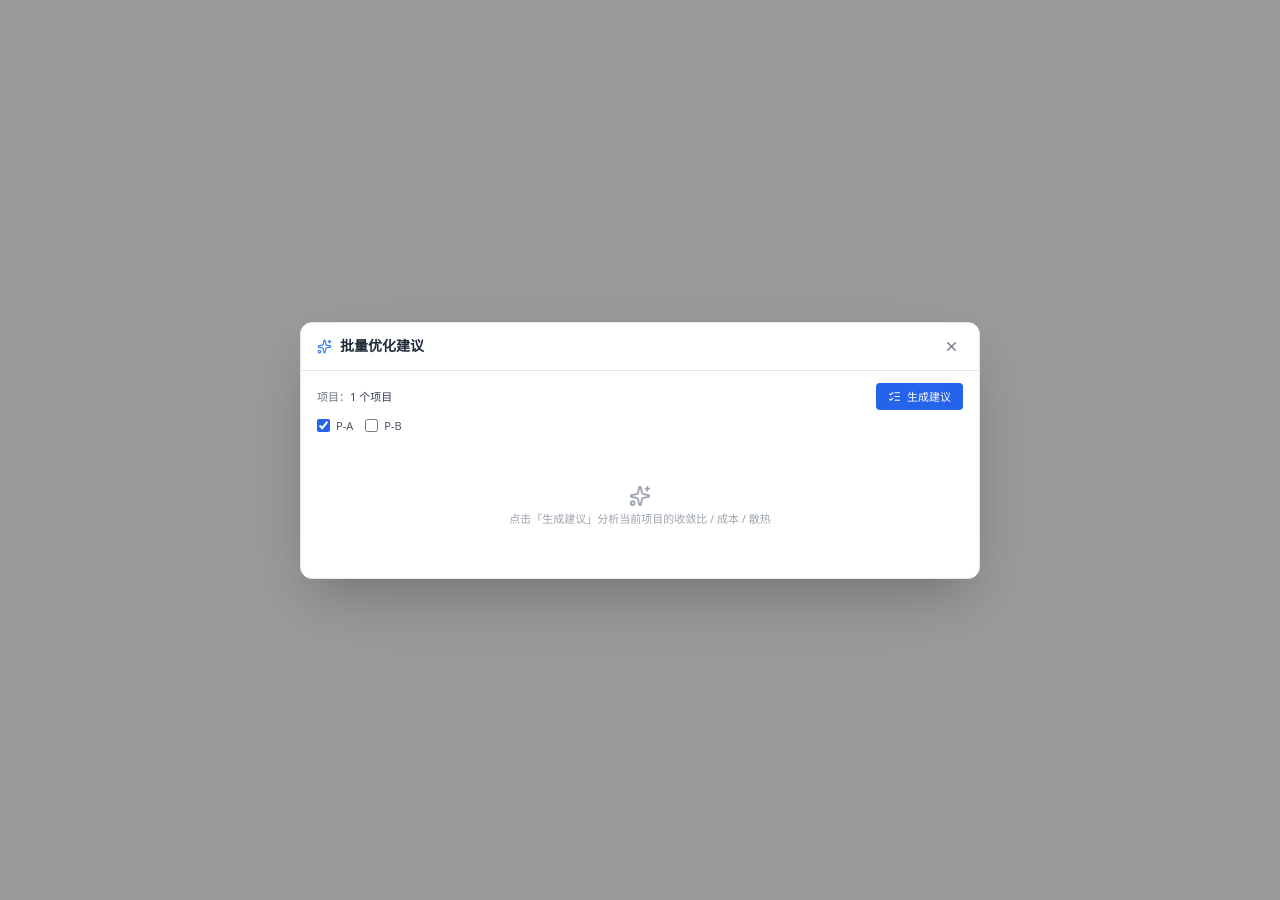
E-2 批量优化（F4-2，多项目复用 BatchOptimizePanel） › 支持多项目选择：按项目逐个生成建议（每个项目一次 suggest）
The image size is (1280, 900).
多选 P-A + P-B
Click the checkbox labelled "P-B" at (372, 425), box [365,418,378,432]
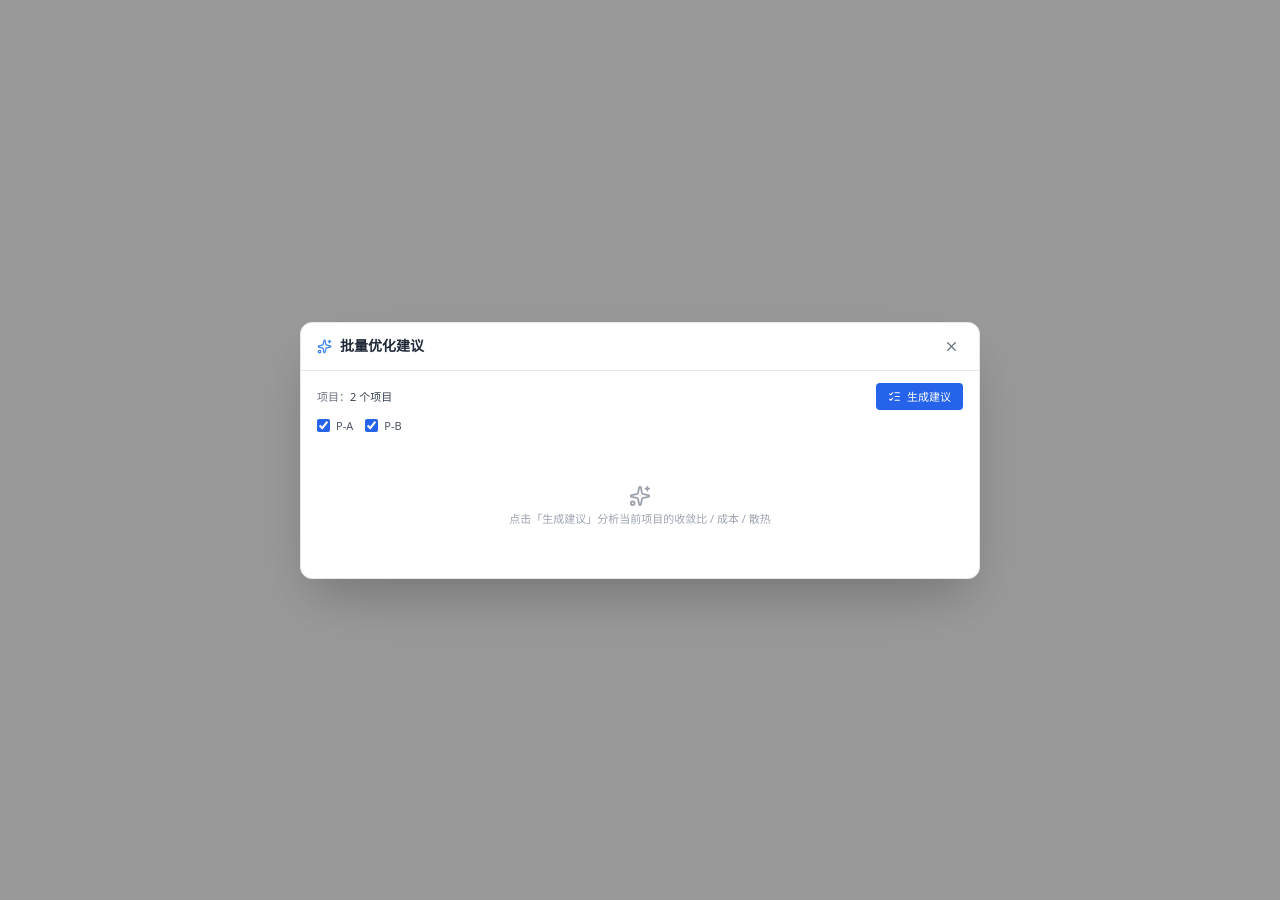
Click the button "生成建议" at (920, 396), box [876,382,963,410]
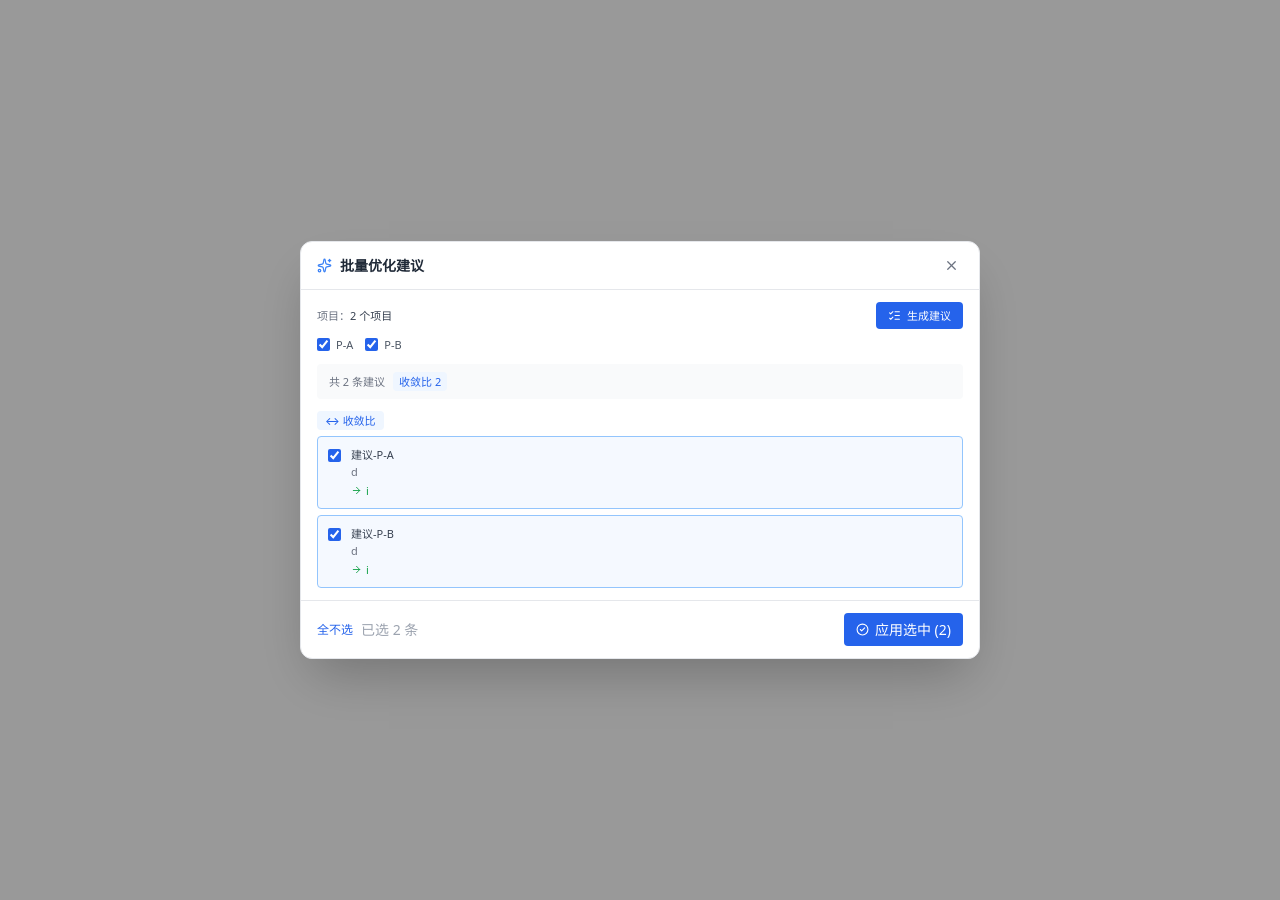
Expected: the text "建议-P-A" is shown, [351,447,394,462]
Expected: the text "建议-P-B" is shown, [351,526,394,541]
